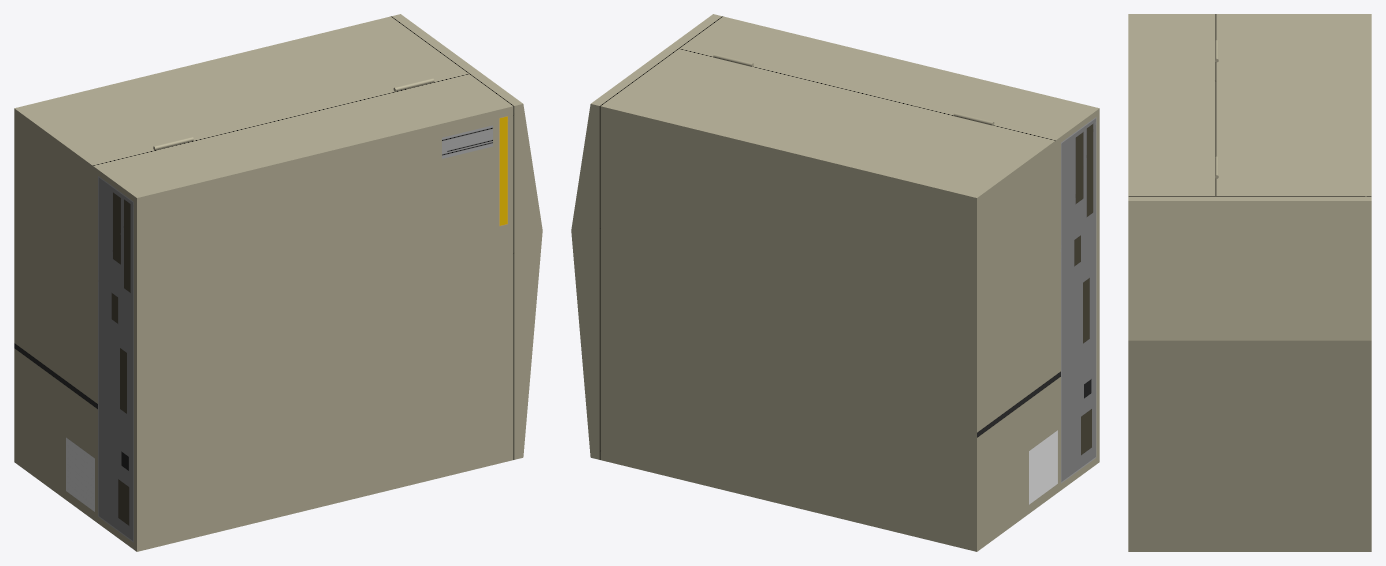
File: tiehe.FBX
3 renders of one model, left to right at view 1: azimuth 30°, elevation 25°; view 2: azimuth 150°, elevation 25°; view 3: azimuth 270°, elevation 25°, orthographic.
Visible parts, largest first — view 1: YF_Model_tiehe; view 2: YF_Model_tiehe; view 3: YF_Model_tiehe.
Part boxes in pixels (bbox=[...]): YF_Model_tiehe: bbox=[14, 14, 542, 551]; YF_Model_tiehe: bbox=[571, 14, 1099, 551]; YF_Model_tiehe: bbox=[1128, 14, 1371, 551].
Bounding box in the file's own units: 42 × 35.4 × 22.
